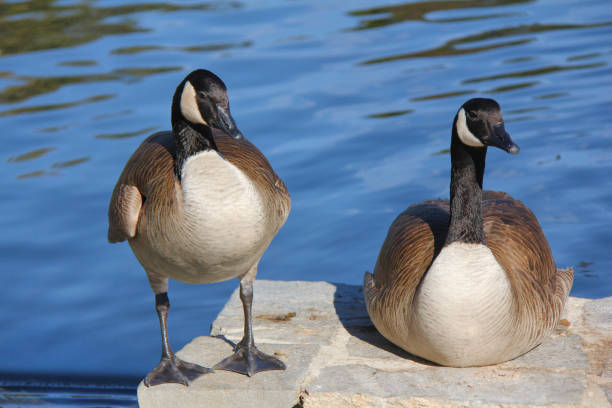goose: (355, 94, 576, 374), (102, 68, 292, 387)
